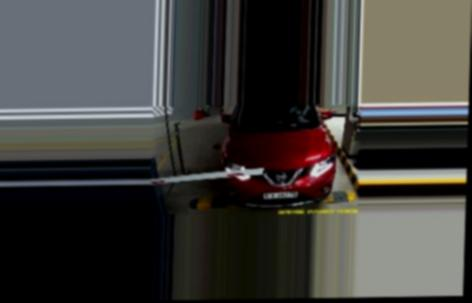License_Plate: (262, 189, 300, 202)
